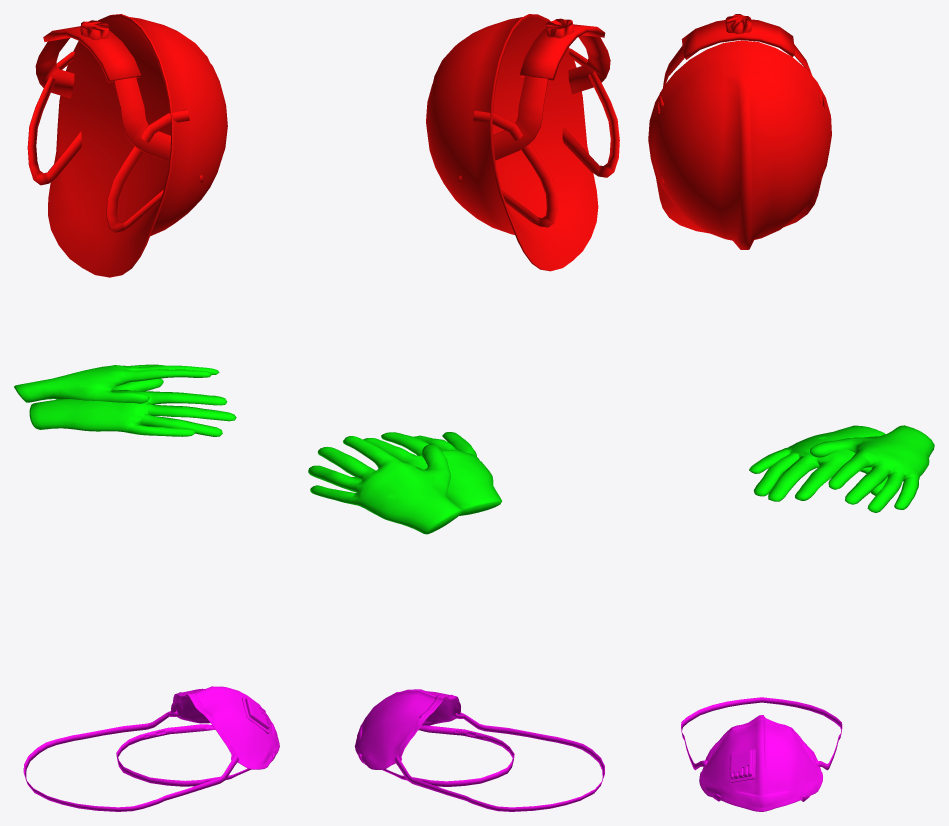
File: 0210_ETC_Item.fbx
3 renders of one model, left to right at view 1: azimuth 30°, elevation 25°; view 2: azimuth 150°, elevation 25°; view 3: azimuth 270°, elevation 25°, orthographic. The views are drawn at different scales.
Visible parts, largest first — view 1: Helmmet, Glove, Mask_09; view 2: Helmmet, Glove, Mask_09; view 3: Helmmet, Glove, Mask_09.
Boxes of the visible parts, bbox=[...] form: Helmmet: bbox=[27, 14, 227, 277]; Glove: bbox=[14, 364, 236, 436]; Mask_09: bbox=[23, 686, 279, 811]; Helmmet: bbox=[426, 14, 619, 271]; Glove: bbox=[308, 432, 501, 534]; Mask_09: bbox=[354, 689, 604, 811]; Helmmet: bbox=[648, 14, 831, 249]; Glove: bbox=[749, 425, 934, 512]; Mask_09: bbox=[681, 697, 842, 811].
Bounding box in the file's own units: 27.74 × 84.38 × 30.94.
